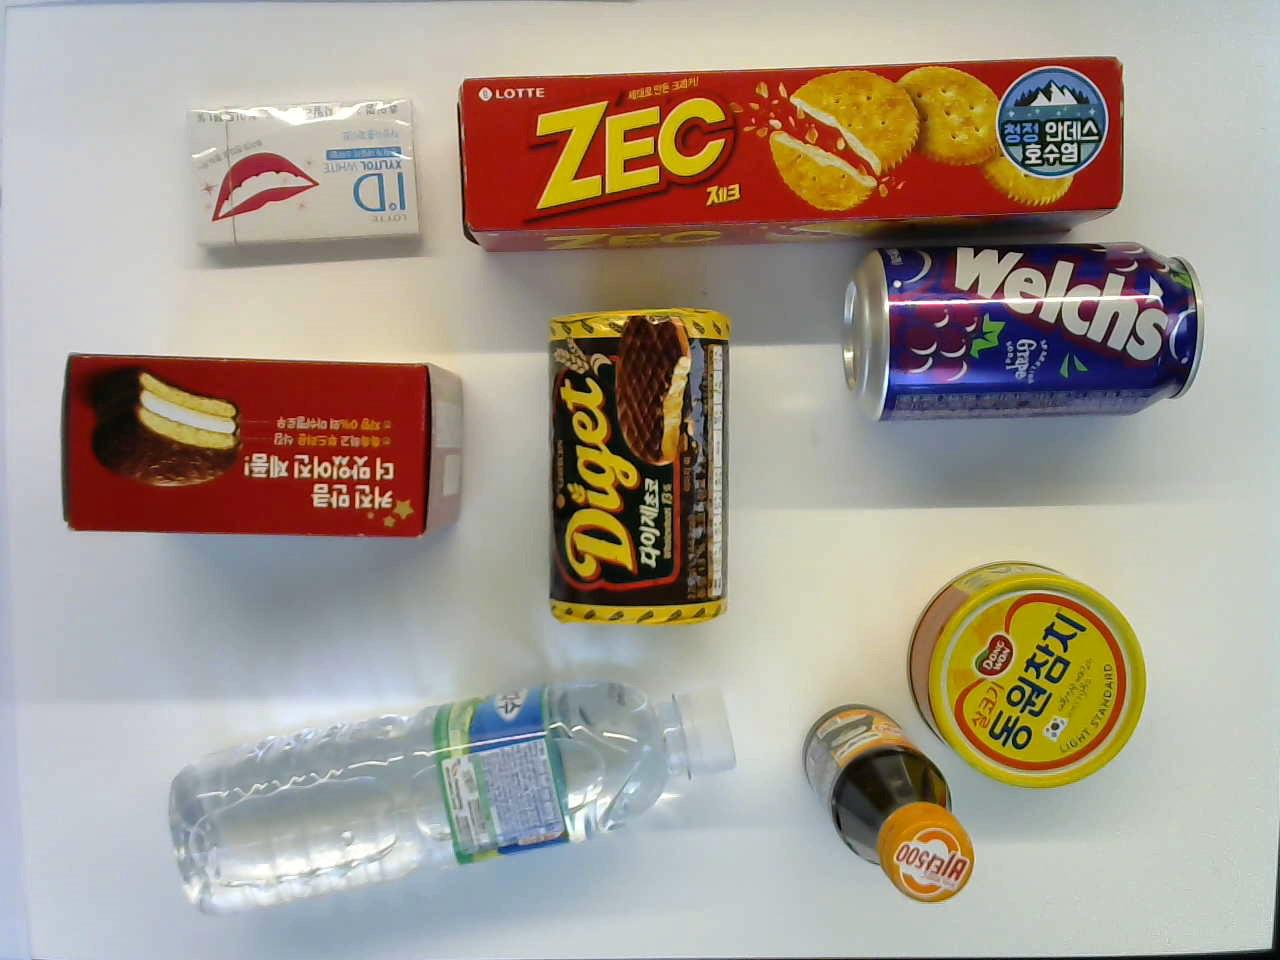ID_gum: (176, 94, 429, 259)
chocopie: (50, 342, 474, 546)
diget_choco: (541, 301, 735, 629)
samdasu: (162, 671, 742, 922)
tuna: (899, 557, 1147, 792)
vita500: (795, 695, 978, 913)
welchs: (836, 233, 1207, 429)
zec: (452, 49, 1134, 256)
